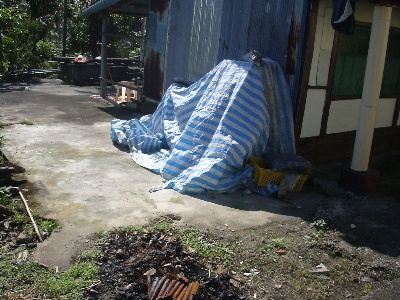plastic_bag: (109, 57, 300, 197)
